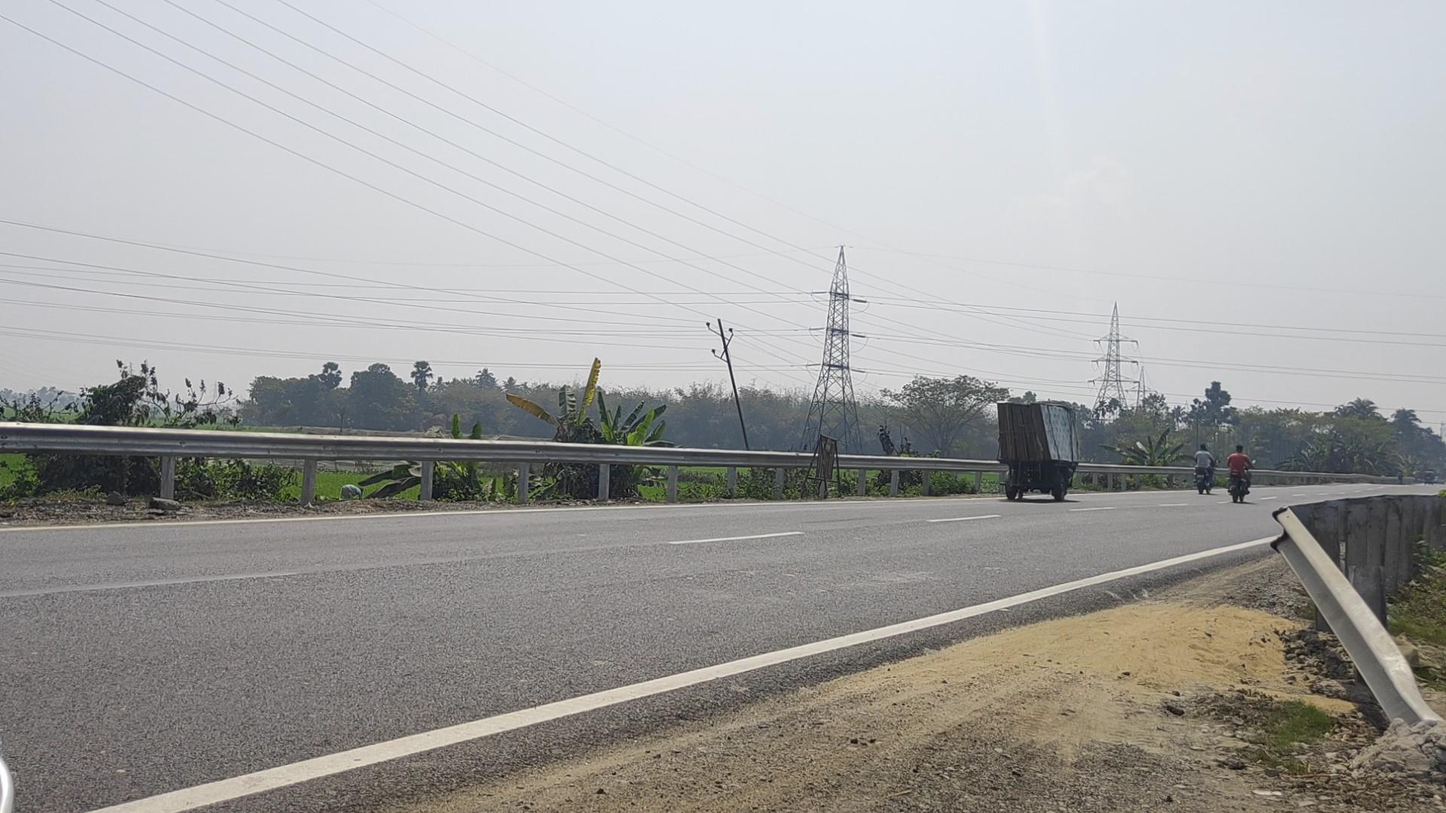bike: (1227, 445, 1255, 503), (1194, 443, 1220, 495)
